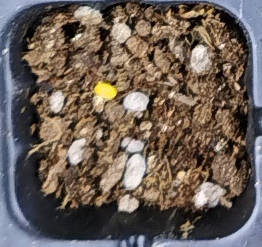pepper seed: (33, 29, 151, 131)
